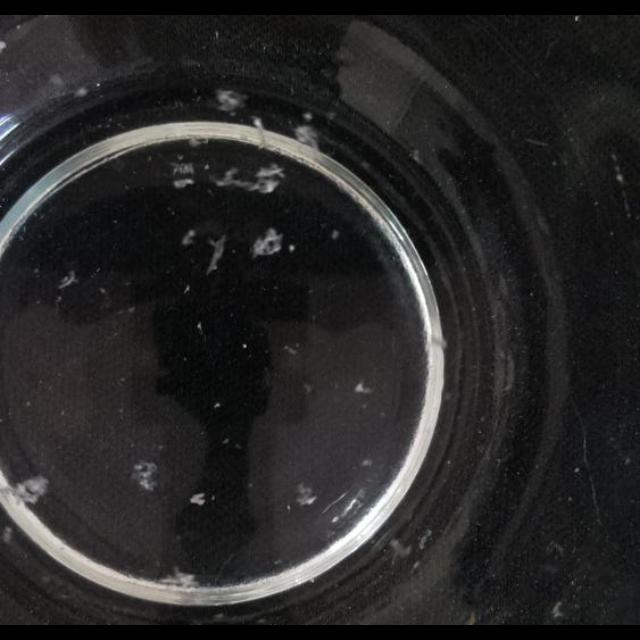Fibre: (208, 164, 284, 196), (160, 561, 204, 609), (386, 532, 426, 566), (10, 476, 50, 506), (252, 227, 286, 259), (131, 461, 161, 494), (210, 167, 250, 191), (293, 122, 323, 152), (206, 234, 228, 272), (213, 88, 244, 112), (170, 165, 196, 191), (294, 482, 318, 506), (255, 163, 287, 181), (58, 269, 80, 289), (181, 228, 197, 246), (353, 380, 372, 394), (190, 492, 207, 506)
microbeads: (498, 352, 516, 398), (611, 151, 629, 189), (428, 333, 448, 353), (325, 230, 345, 248), (547, 540, 565, 558), (550, 600, 566, 620), (194, 317, 206, 338), (239, 339, 251, 357), (2, 526, 14, 544), (283, 343, 299, 355), (410, 148, 422, 164), (209, 402, 223, 414), (74, 86, 88, 98), (301, 111, 313, 122), (360, 458, 372, 468), (302, 381, 312, 393), (272, 558, 284, 566), (182, 284, 190, 294), (624, 456, 632, 466), (222, 437, 230, 445), (574, 466, 580, 474), (574, 16, 580, 24)
